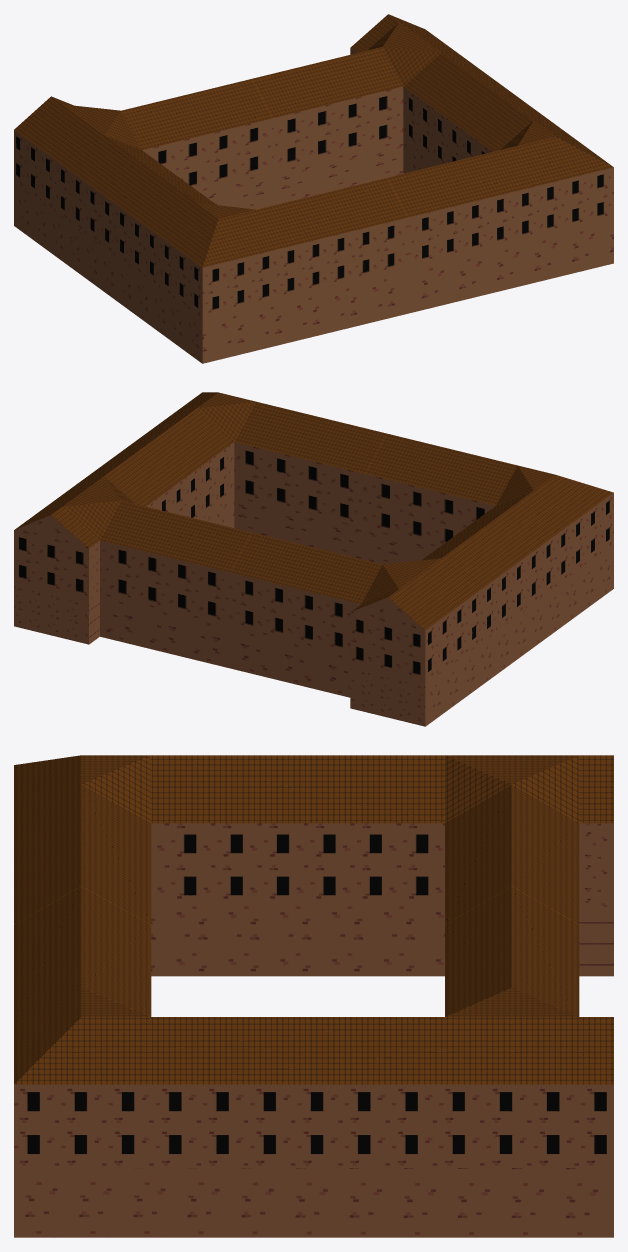
File: maddox.obj
The picture shows the model from 3 angles, top to bottom: view 1: azimuth 30°, elevation 25°; view 2: azimuth 150°, elevation 25°; view 3: azimuth 270°, elevation 25°; orthographic projection. The views are drawn at different scales.
Visible parts, largest first — view 1: Cube, Cube.001_Cube.003; view 2: Cube, Cube.001_Cube.003; view 3: Cube.001_Cube.003, Cube.
Part boxes in pixels (x1=…): Cube: x1=14, y1=79, x2=408, y2=363; Cube.001_Cube.003: x1=252, y1=14, x2=613, y2=313; Cube: x1=230, y1=433, x2=613, y2=726; Cube.001_Cube.003: x1=14, y1=392, x2=386, y2=668; Cube.001_Cube.003: x1=14, y1=886, x2=613, y2=1237; Cube: x1=14, y1=755, x2=613, y2=976.
Size of the model in its own units: 21.28 by 5.95 by 16.89.
